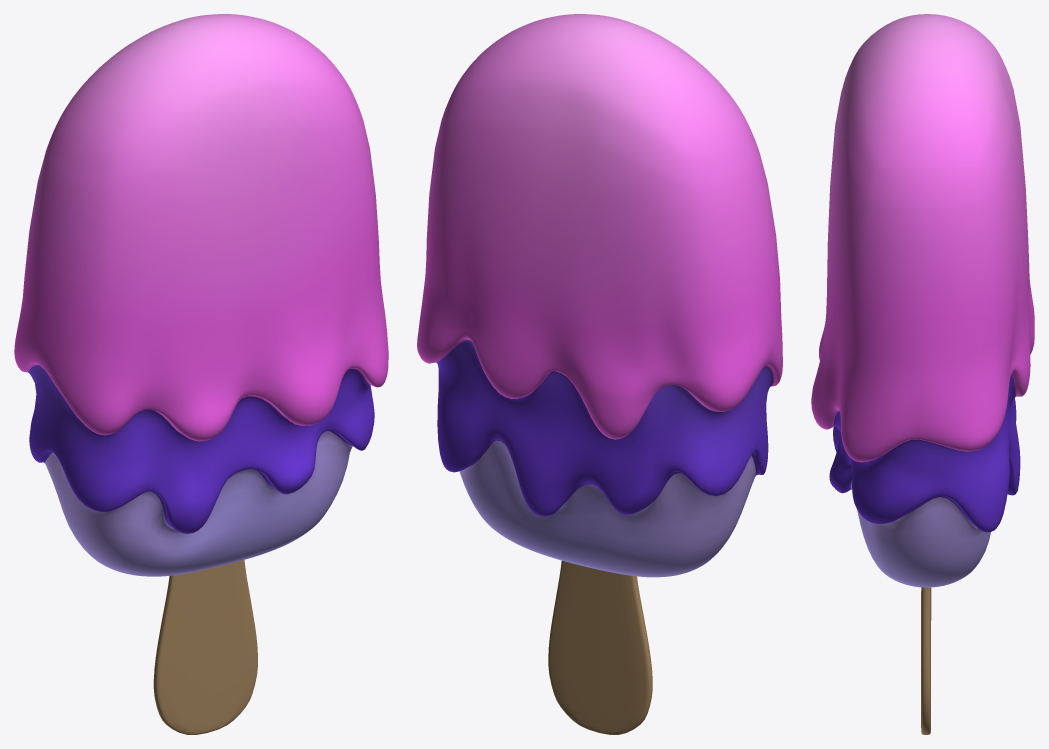
File: Demo.gltf
The picture shows the model from 3 angles, left to right: view 1: azimuth 30°, elevation 25°; view 2: azimuth 150°, elevation 25°; view 3: azimuth 270°, elevation 25°; orthographic projection.
Visible parts, largest first — view 1: Pink topping, Dark blue topping, Blue topping, Stick; view 2: Pink topping, Dark blue topping, Blue topping, Stick; view 3: Pink topping, Dark blue topping, Blue topping, Stick.
Boxes of the visible parts, x1,y1,x2,y2 form: Pink topping: (14,14,388,441); Dark blue topping: (28,365,374,533); Blue topping: (44,431,352,576); Stick: (153,560,257,734); Pink topping: (417,14,782,439); Dark blue topping: (436,340,773,516); Blue topping: (459,440,756,577); Stick: (548,560,652,734); Pink topping: (811,14,1034,462); Dark blue topping: (829,374,1020,532); Blue topping: (850,480,990,587); Stick: (921,587,931,734).
Size of the model in its own units: 0.0869 by 0.1756 by 0.0508.
Materials: 4 (3 with a texture image).
